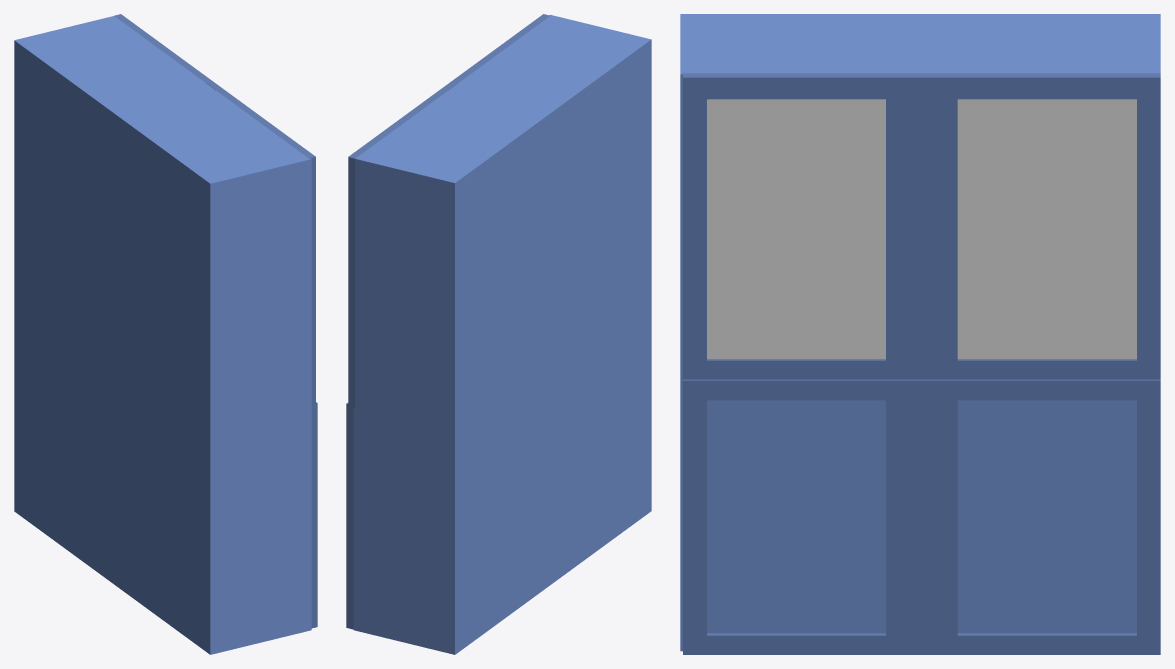
File: Cabinet.fbx
3 views of the same model, side by side, from view 1: azimuth 30°, elevation 25°; view 2: azimuth 150°, elevation 25°; view 3: azimuth 270°, elevation 25° (orthographic). The views are drawn at different scales.
Parts seen in each view (by area): view 1: Cabinet; view 2: Cabinet; view 3: Cabinet, Glass.
Part boxes in pixels (bbox=[...]): Cabinet: bbox=[14, 14, 317, 654]; Cabinet: bbox=[346, 14, 651, 654]; Cabinet: bbox=[680, 14, 1160, 654]; Glass: bbox=[707, 99, 1136, 358].
Size of the model in its own units: 63.85 by 200 by 265.
